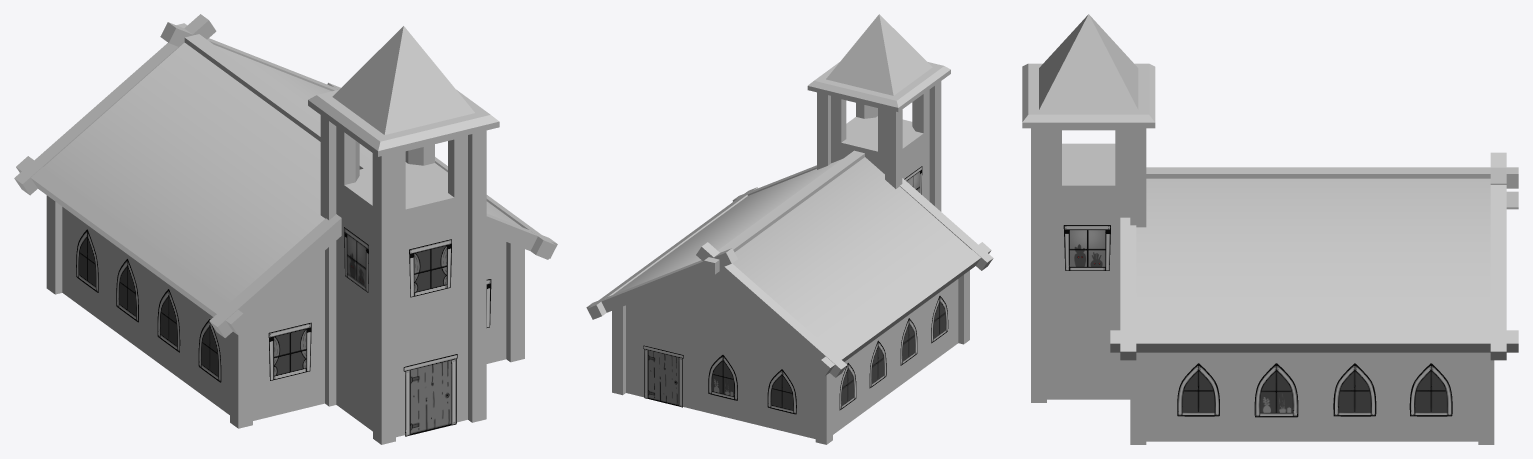
File: Asset_Church.fbx
The picture shows the model from 3 angles, left to right: view 1: azimuth 30°, elevation 25°; view 2: azimuth 150°, elevation 25°; view 3: azimuth 270°, elevation 25°; orthographic projection. The views are drawn at different scales.
Visible parts, largest first — view 1: Church1; view 2: Church1; view 3: Church1.
Boxes of the visible parts, x1,y1,x2,y2 form: Church1: (14,14,557,444); Church1: (586,14,993,444); Church1: (1022,14,1518,444).
Size of the model in its own units: 750 by 999 by 821.
